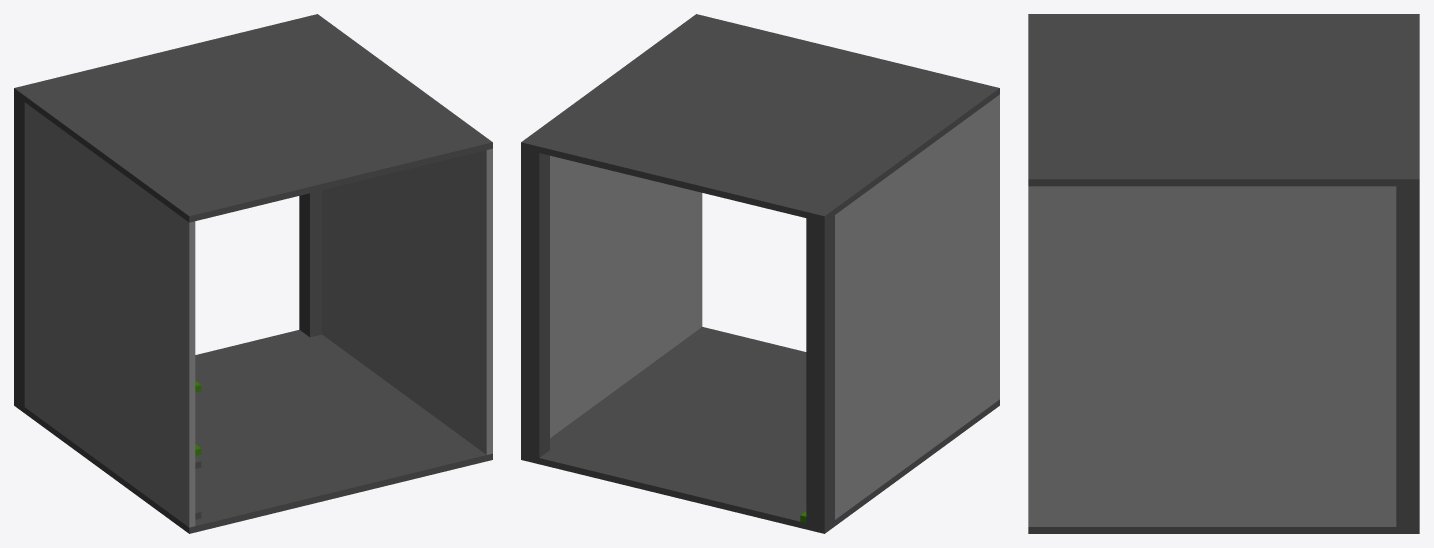
Rendered from Elevator.obj.
The picture shows the model from 3 angles, left to right: view 1: azimuth 30°, elevation 25°; view 2: azimuth 150°, elevation 25°; view 3: azimuth 270°, elevation 25°; orthographic projection. The views are drawn at different scales.
Bounding box in the file's own units: 5 × 5 × 5.
Materials: 1 (1 with a texture image).
